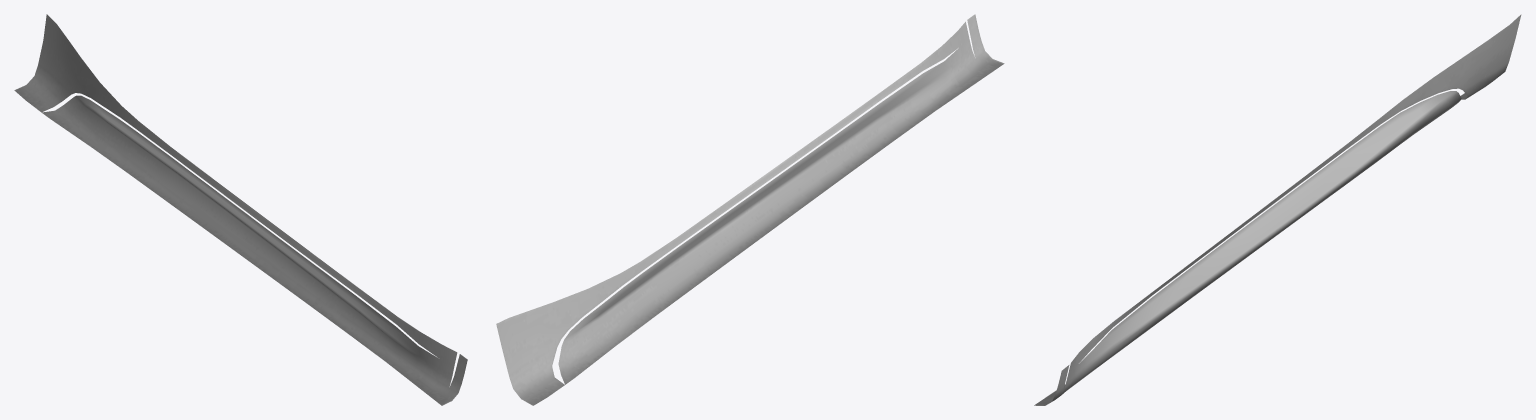
File: M2drivsideskirts.glb
3 renders of one model, left to right at view 1: azimuth 30°, elevation 25°; view 2: azimuth 150°, elevation 25°; view 3: azimuth 330°, elevation 25°, orthographic. The views are drawn at different scales.
Parts seen in each view (by area): view 1: Object_23.077; view 2: Object_23.077; view 3: Object_23.077.
Boxes of the visible parts, x1=… form: Object_23.077: x1=14, y1=14, x2=467, y2=405; Object_23.077: x1=496, y1=14, x2=1004, y2=405; Object_23.077: x1=1034, y1=14, x2=1521, y2=405.
Size of the model in its own units: 0.0936 by 0.1731 by 1.96.
1 material, 1 textured.
